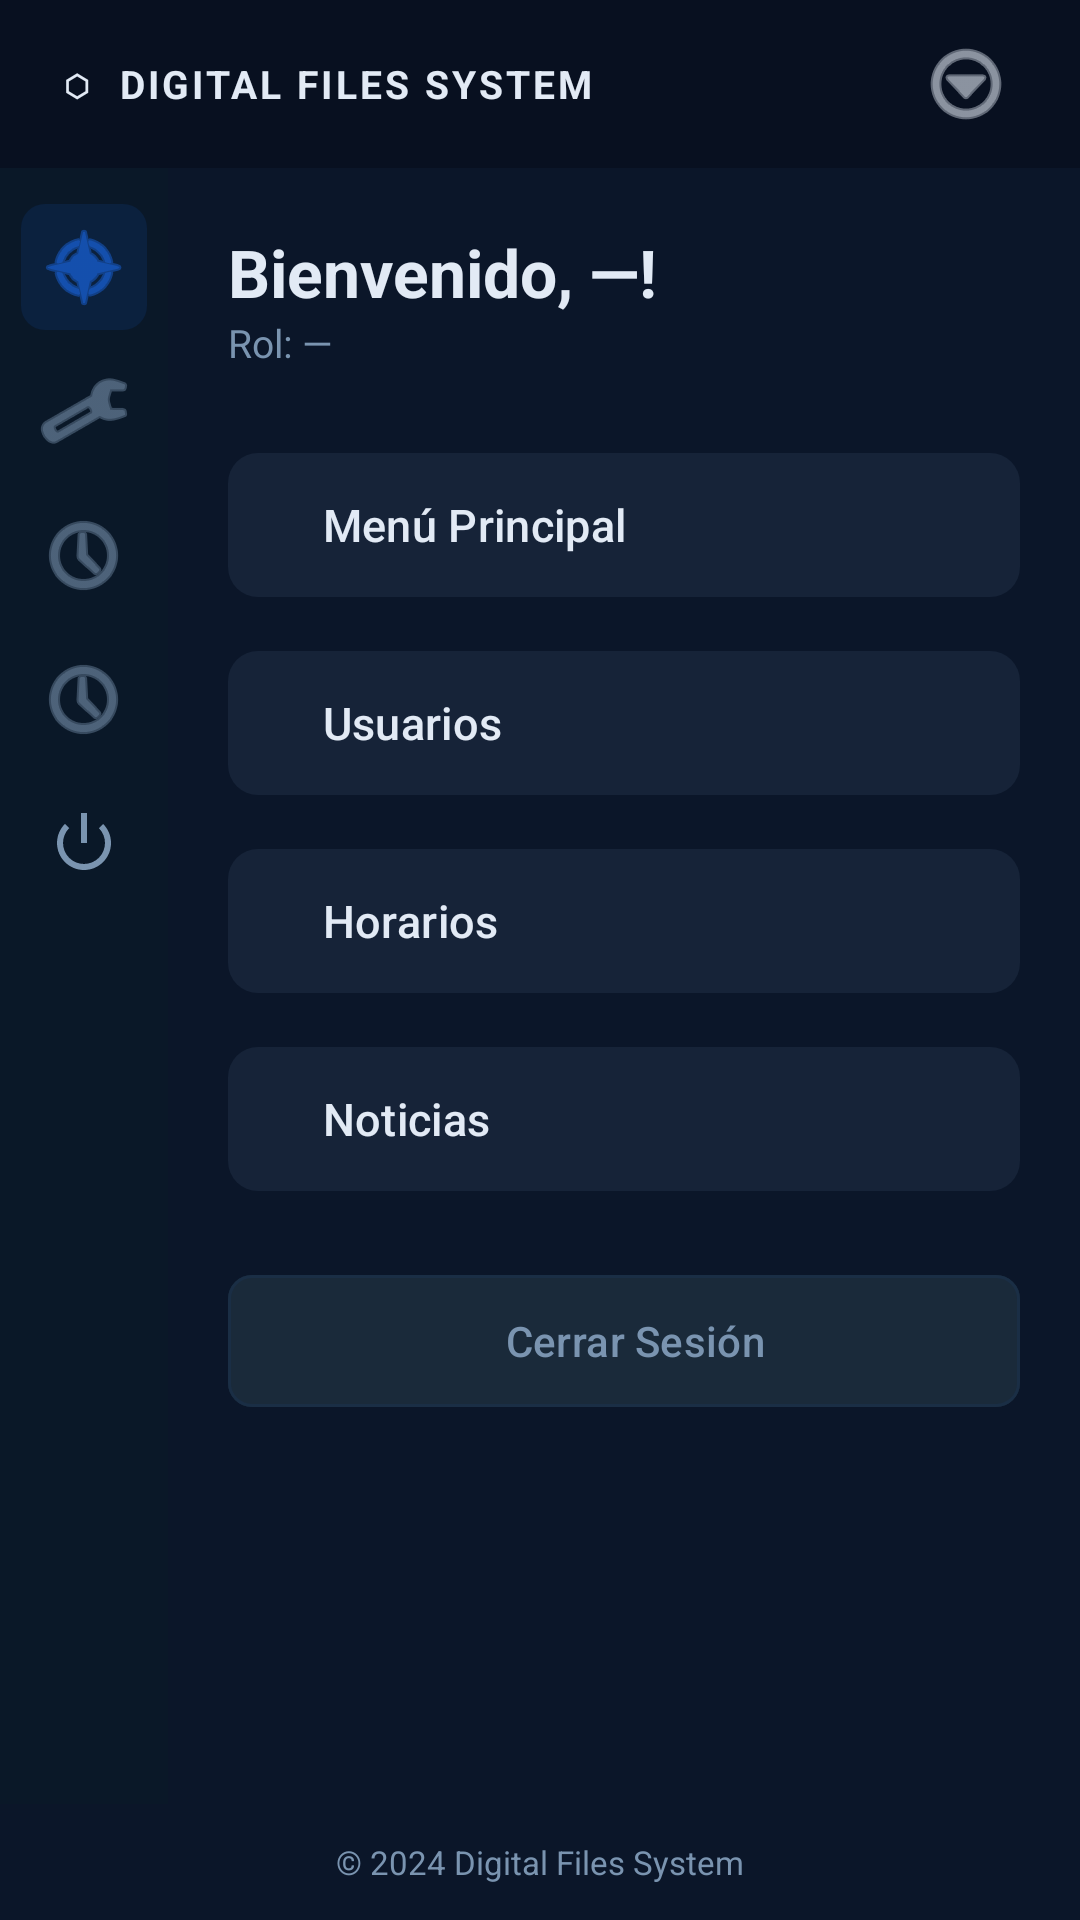

Named icons in this screenshot (1080*1920) and their centers, [x,y]:
Cerrar sesión: [84,841]
Menú: [966,84]
Registrar entrada: [83,555]
Registrar salida: [83,699]
